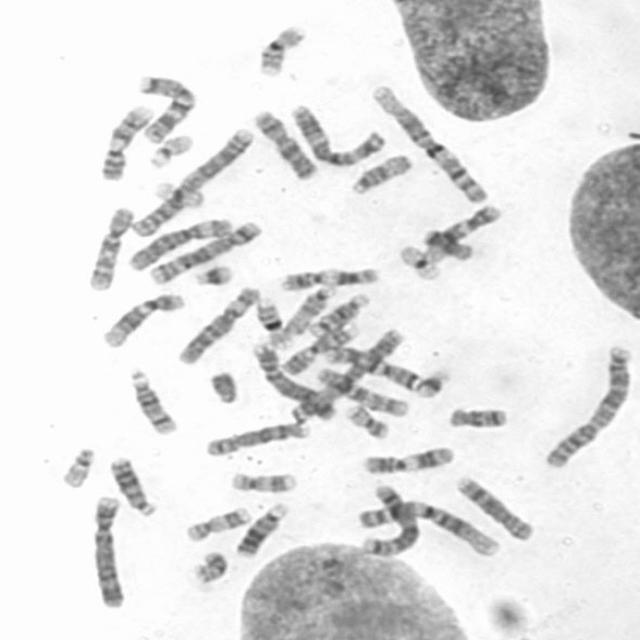A1: (369, 84, 490, 204), (356, 500, 501, 558)
A2: (127, 125, 256, 241), (539, 346, 633, 470)
A3: (289, 328, 407, 424), (288, 100, 386, 168)
B4: (250, 340, 340, 422), (90, 493, 128, 610)
B5: (146, 220, 263, 287), (362, 483, 422, 559)
C10: (314, 366, 412, 419), (86, 205, 135, 295)
C11: (360, 444, 460, 476), (281, 266, 384, 291)
C12: (98, 290, 188, 352), (423, 203, 502, 264)
C6: (175, 285, 261, 367), (126, 216, 236, 274)
C7: (322, 346, 425, 392), (135, 74, 197, 144)
C8: (448, 472, 536, 544), (204, 422, 310, 457)
C9: (279, 320, 360, 377), (98, 104, 156, 183)
D13: (234, 500, 293, 559), (108, 454, 158, 518)
D14: (128, 366, 178, 436), (303, 292, 371, 340)
D15: (282, 283, 334, 340), (348, 153, 412, 196)
E16: (257, 21, 310, 79), (251, 296, 293, 350)
E17: (183, 506, 255, 543), (226, 472, 302, 494)
E18: (421, 225, 475, 262), (448, 406, 508, 428)
F19: (395, 243, 441, 284), (151, 180, 207, 212)
F20: (343, 405, 394, 440), (190, 548, 231, 586)
G21: (413, 368, 452, 398), (194, 263, 234, 288)
G22: (147, 133, 197, 171), (59, 445, 98, 489)
X: (249, 108, 319, 183)
Y: (204, 369, 249, 407)
